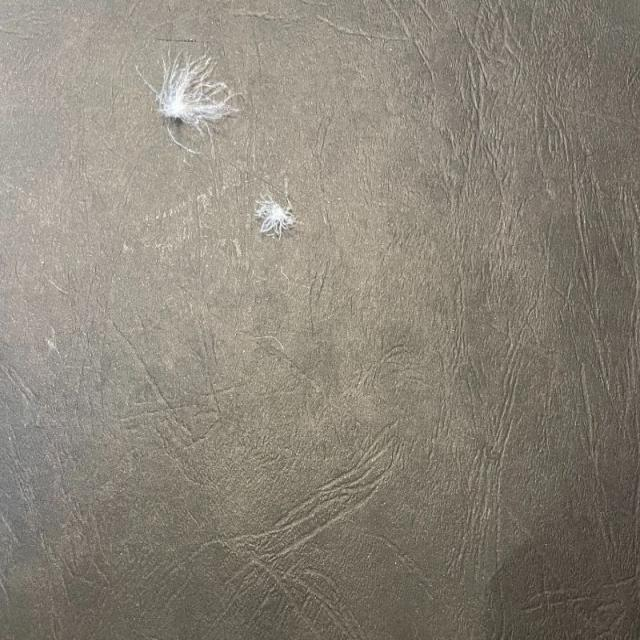feather: (140, 47, 242, 139), (254, 190, 295, 235)
